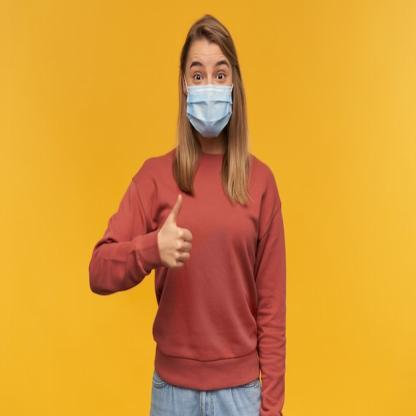thumb_up: (158, 192, 194, 270)
